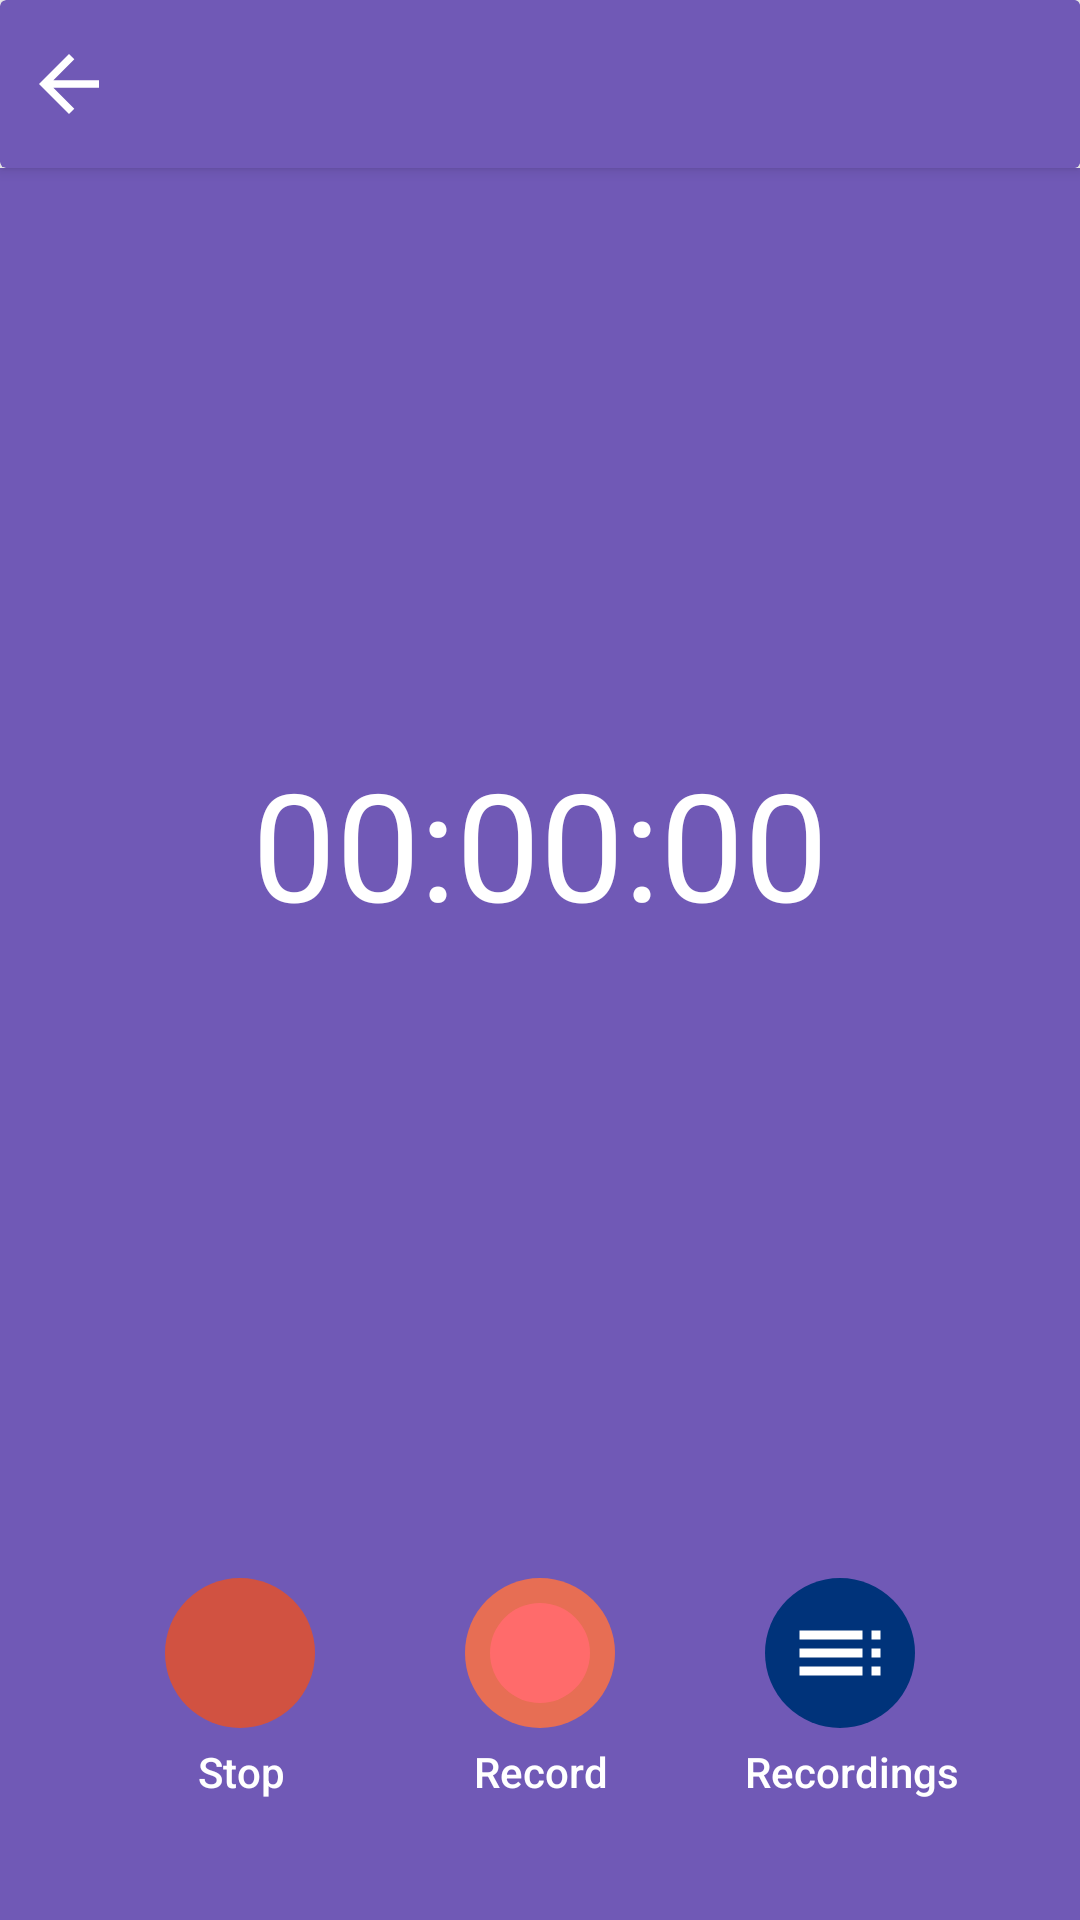

Icon click points for this 1080w x 1920h phone screenshot, format (x=x, y=y):
back arrow: (x=69, y=84)
